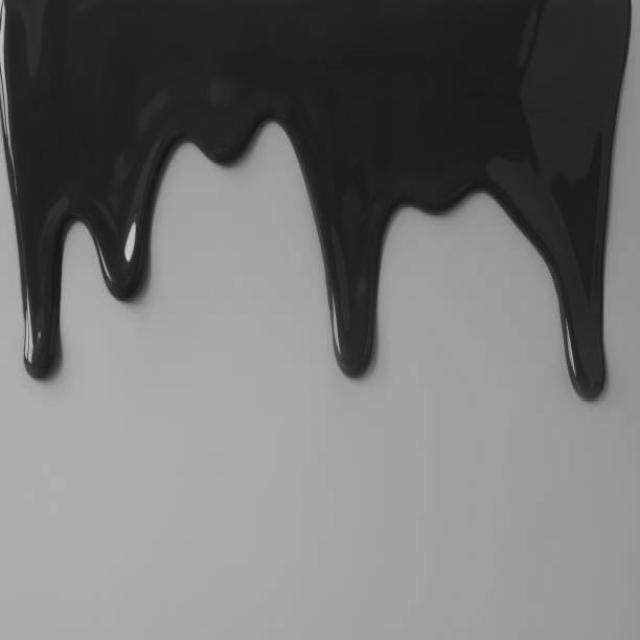paint drips: (0, 64, 640, 440)
